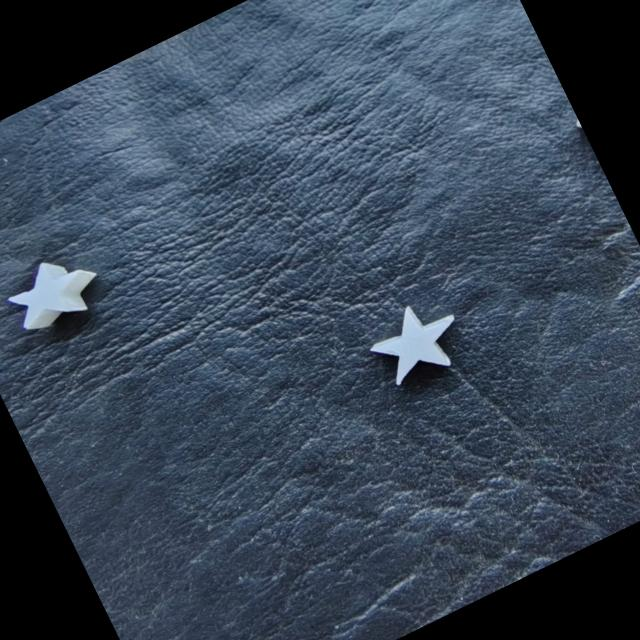estrellas: (373, 309, 451, 382), (8, 262, 81, 328)
